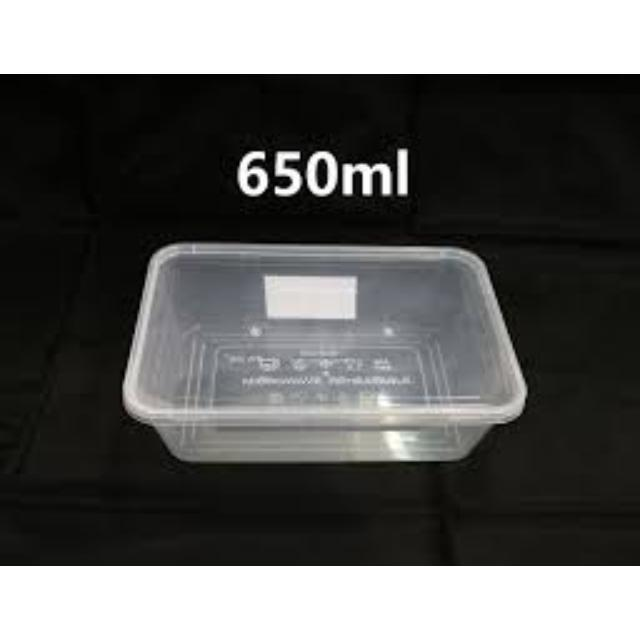Recipiente plastico: (121, 244, 528, 466)
